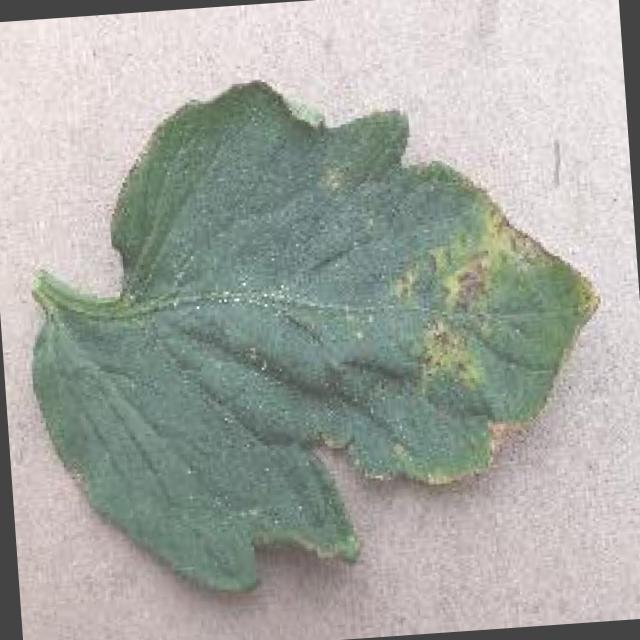bacterial spot: (23, 78, 603, 598)
